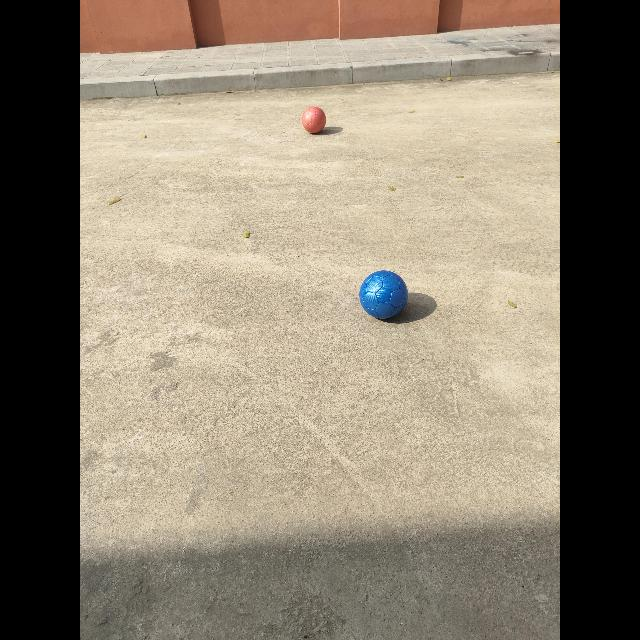B: (360, 271, 408, 319)
R: (301, 106, 326, 134)
